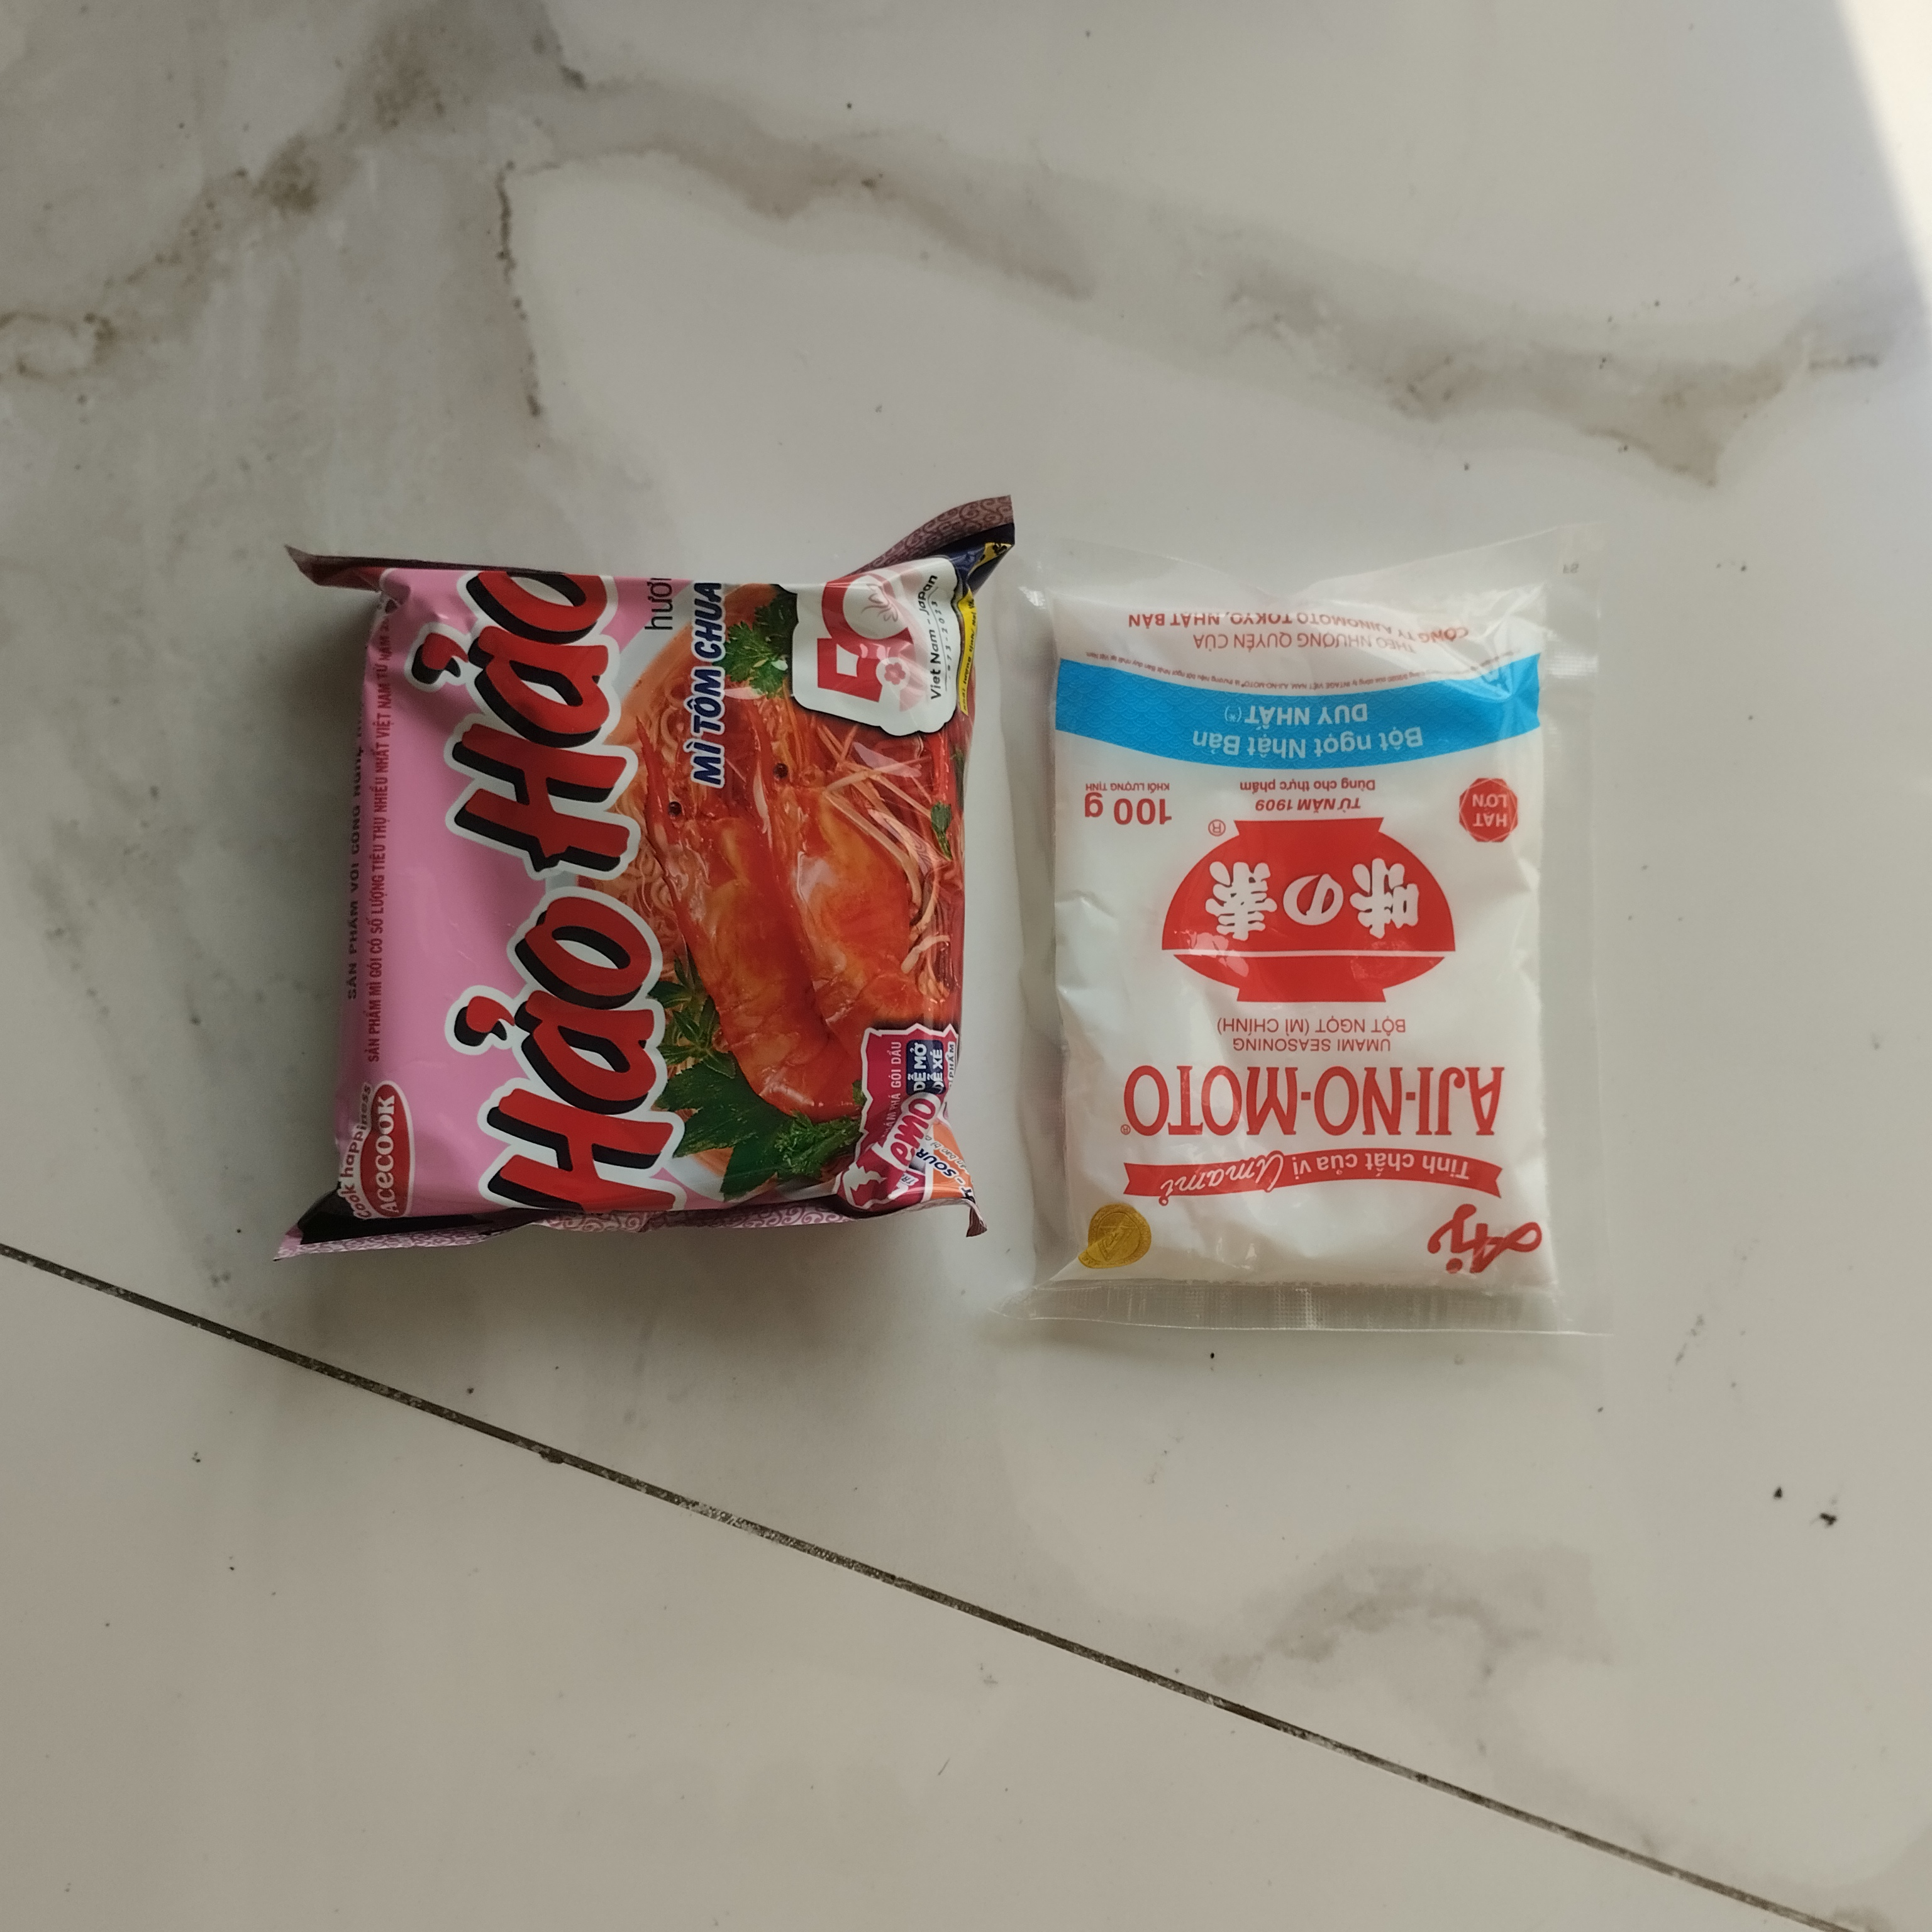Ajinomoto: (1014, 534, 1624, 1361)
Haohao: (258, 487, 1016, 1283)
